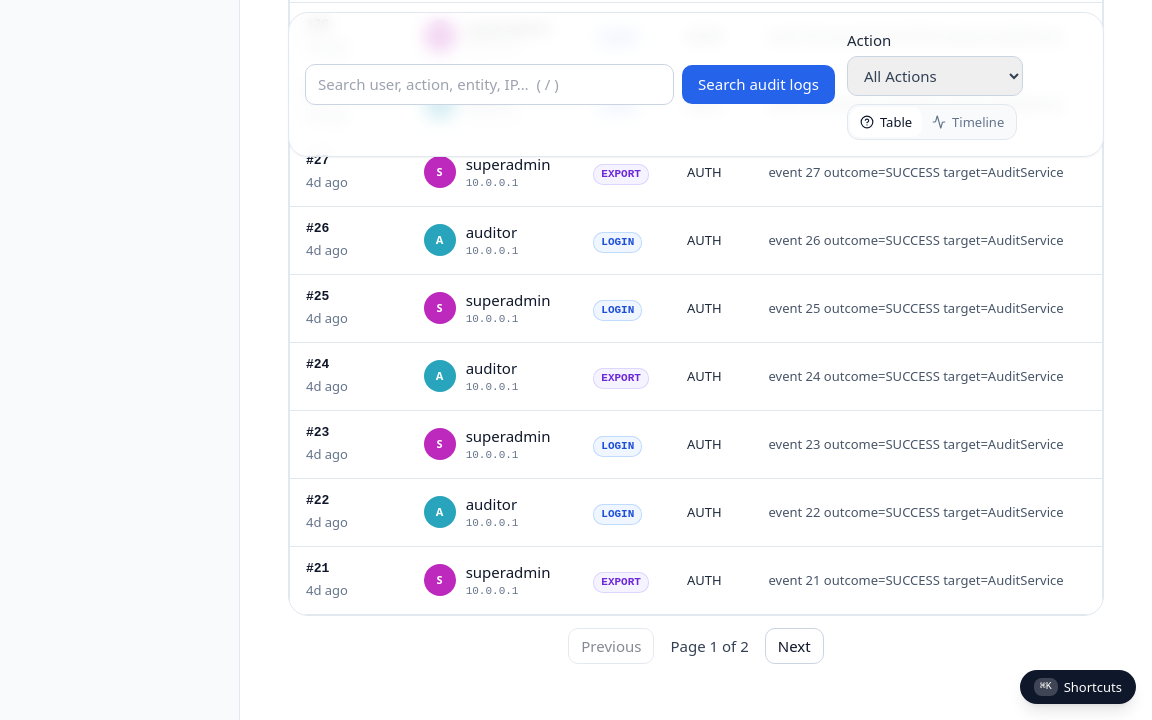
Scenario: super-admin audit trail — REST cases › requests the next page with Spring's 0-based page parameter
The image size is (1152, 720).
(page scrolled)
Check: the navigation bar "Page 1 of 2" is shown, box [568, 628, 824, 664]
Step 1. Click the button "Next" → (794, 646), box [765, 628, 824, 664]
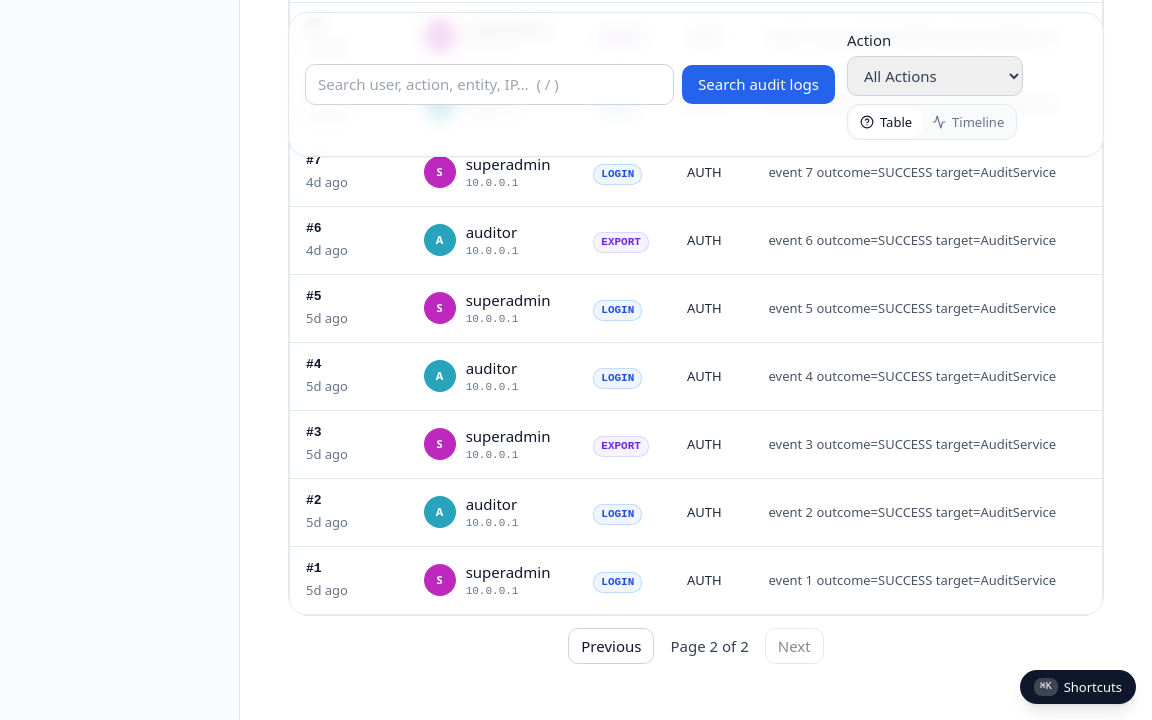
Check: the navigation bar "Page 2 of 2" is shown, box [568, 628, 824, 664]
